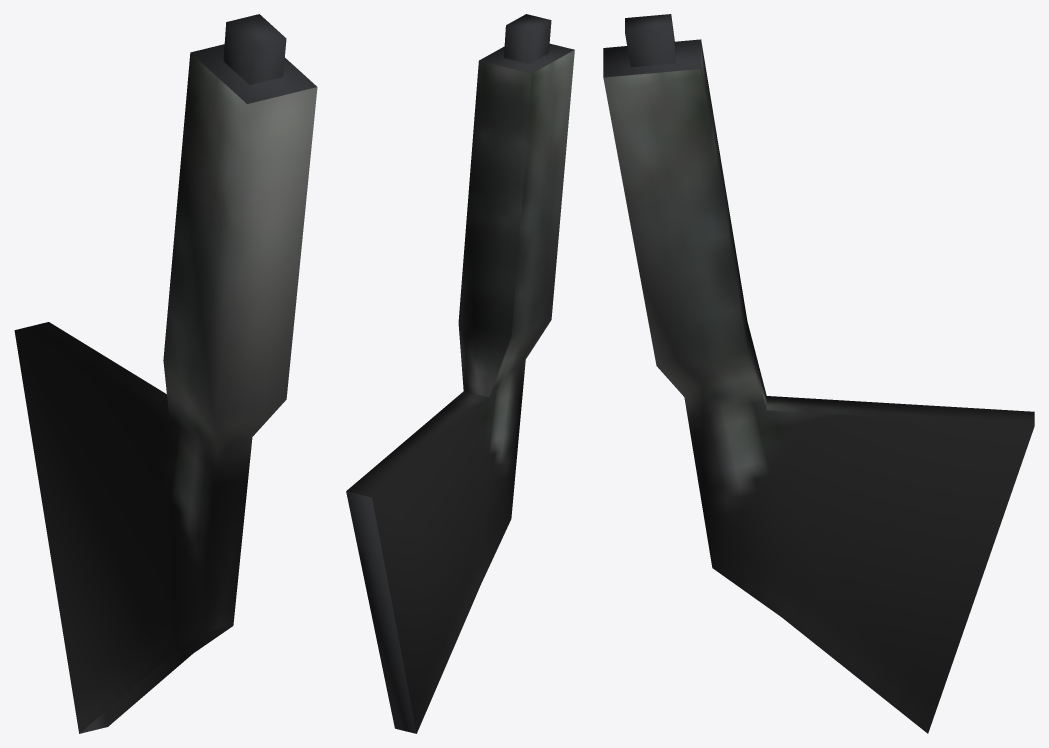
File: polaris_e_brake.dae
The picture shows the model from 3 angles, left to right: view 1: azimuth 30°, elevation 25°; view 2: azimuth 150°, elevation 25°; view 3: azimuth 270°, elevation 25°; orthographic projection. The views are drawn at different scales.
Parts seen in each view (by area): view 1: E-Brake; view 2: E-Brake; view 3: E-Brake.
Boxes of the visible parts, x1=… form: E-Brake: x1=14, y1=14, x2=317, y2=733; E-Brake: x1=346, y1=14, x2=574, y2=733; E-Brake: x1=603, y1=14, x2=1034, y2=733.
Size of the model in its own units: 0.9315 by 5.75 by 10.4.
1 material, 1 textured.
